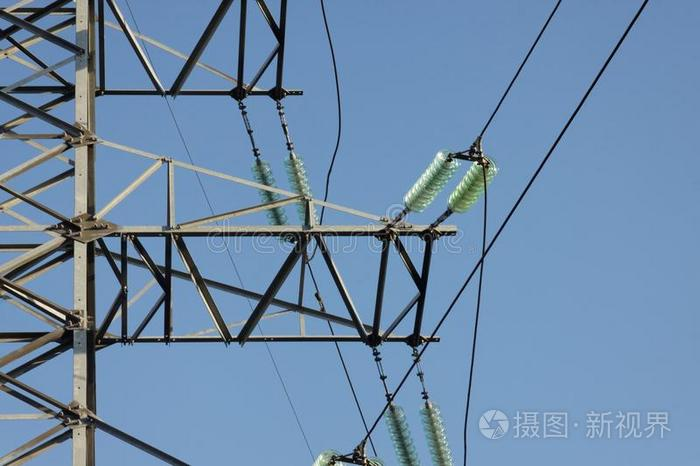insulator: (405, 146, 459, 214), (447, 158, 497, 214), (422, 399, 456, 466), (251, 159, 286, 224), (284, 154, 315, 219), (388, 406, 417, 466)
